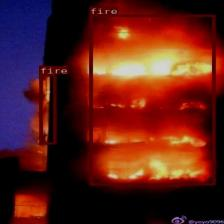fire: (88, 14, 214, 185), (39, 73, 56, 144)
